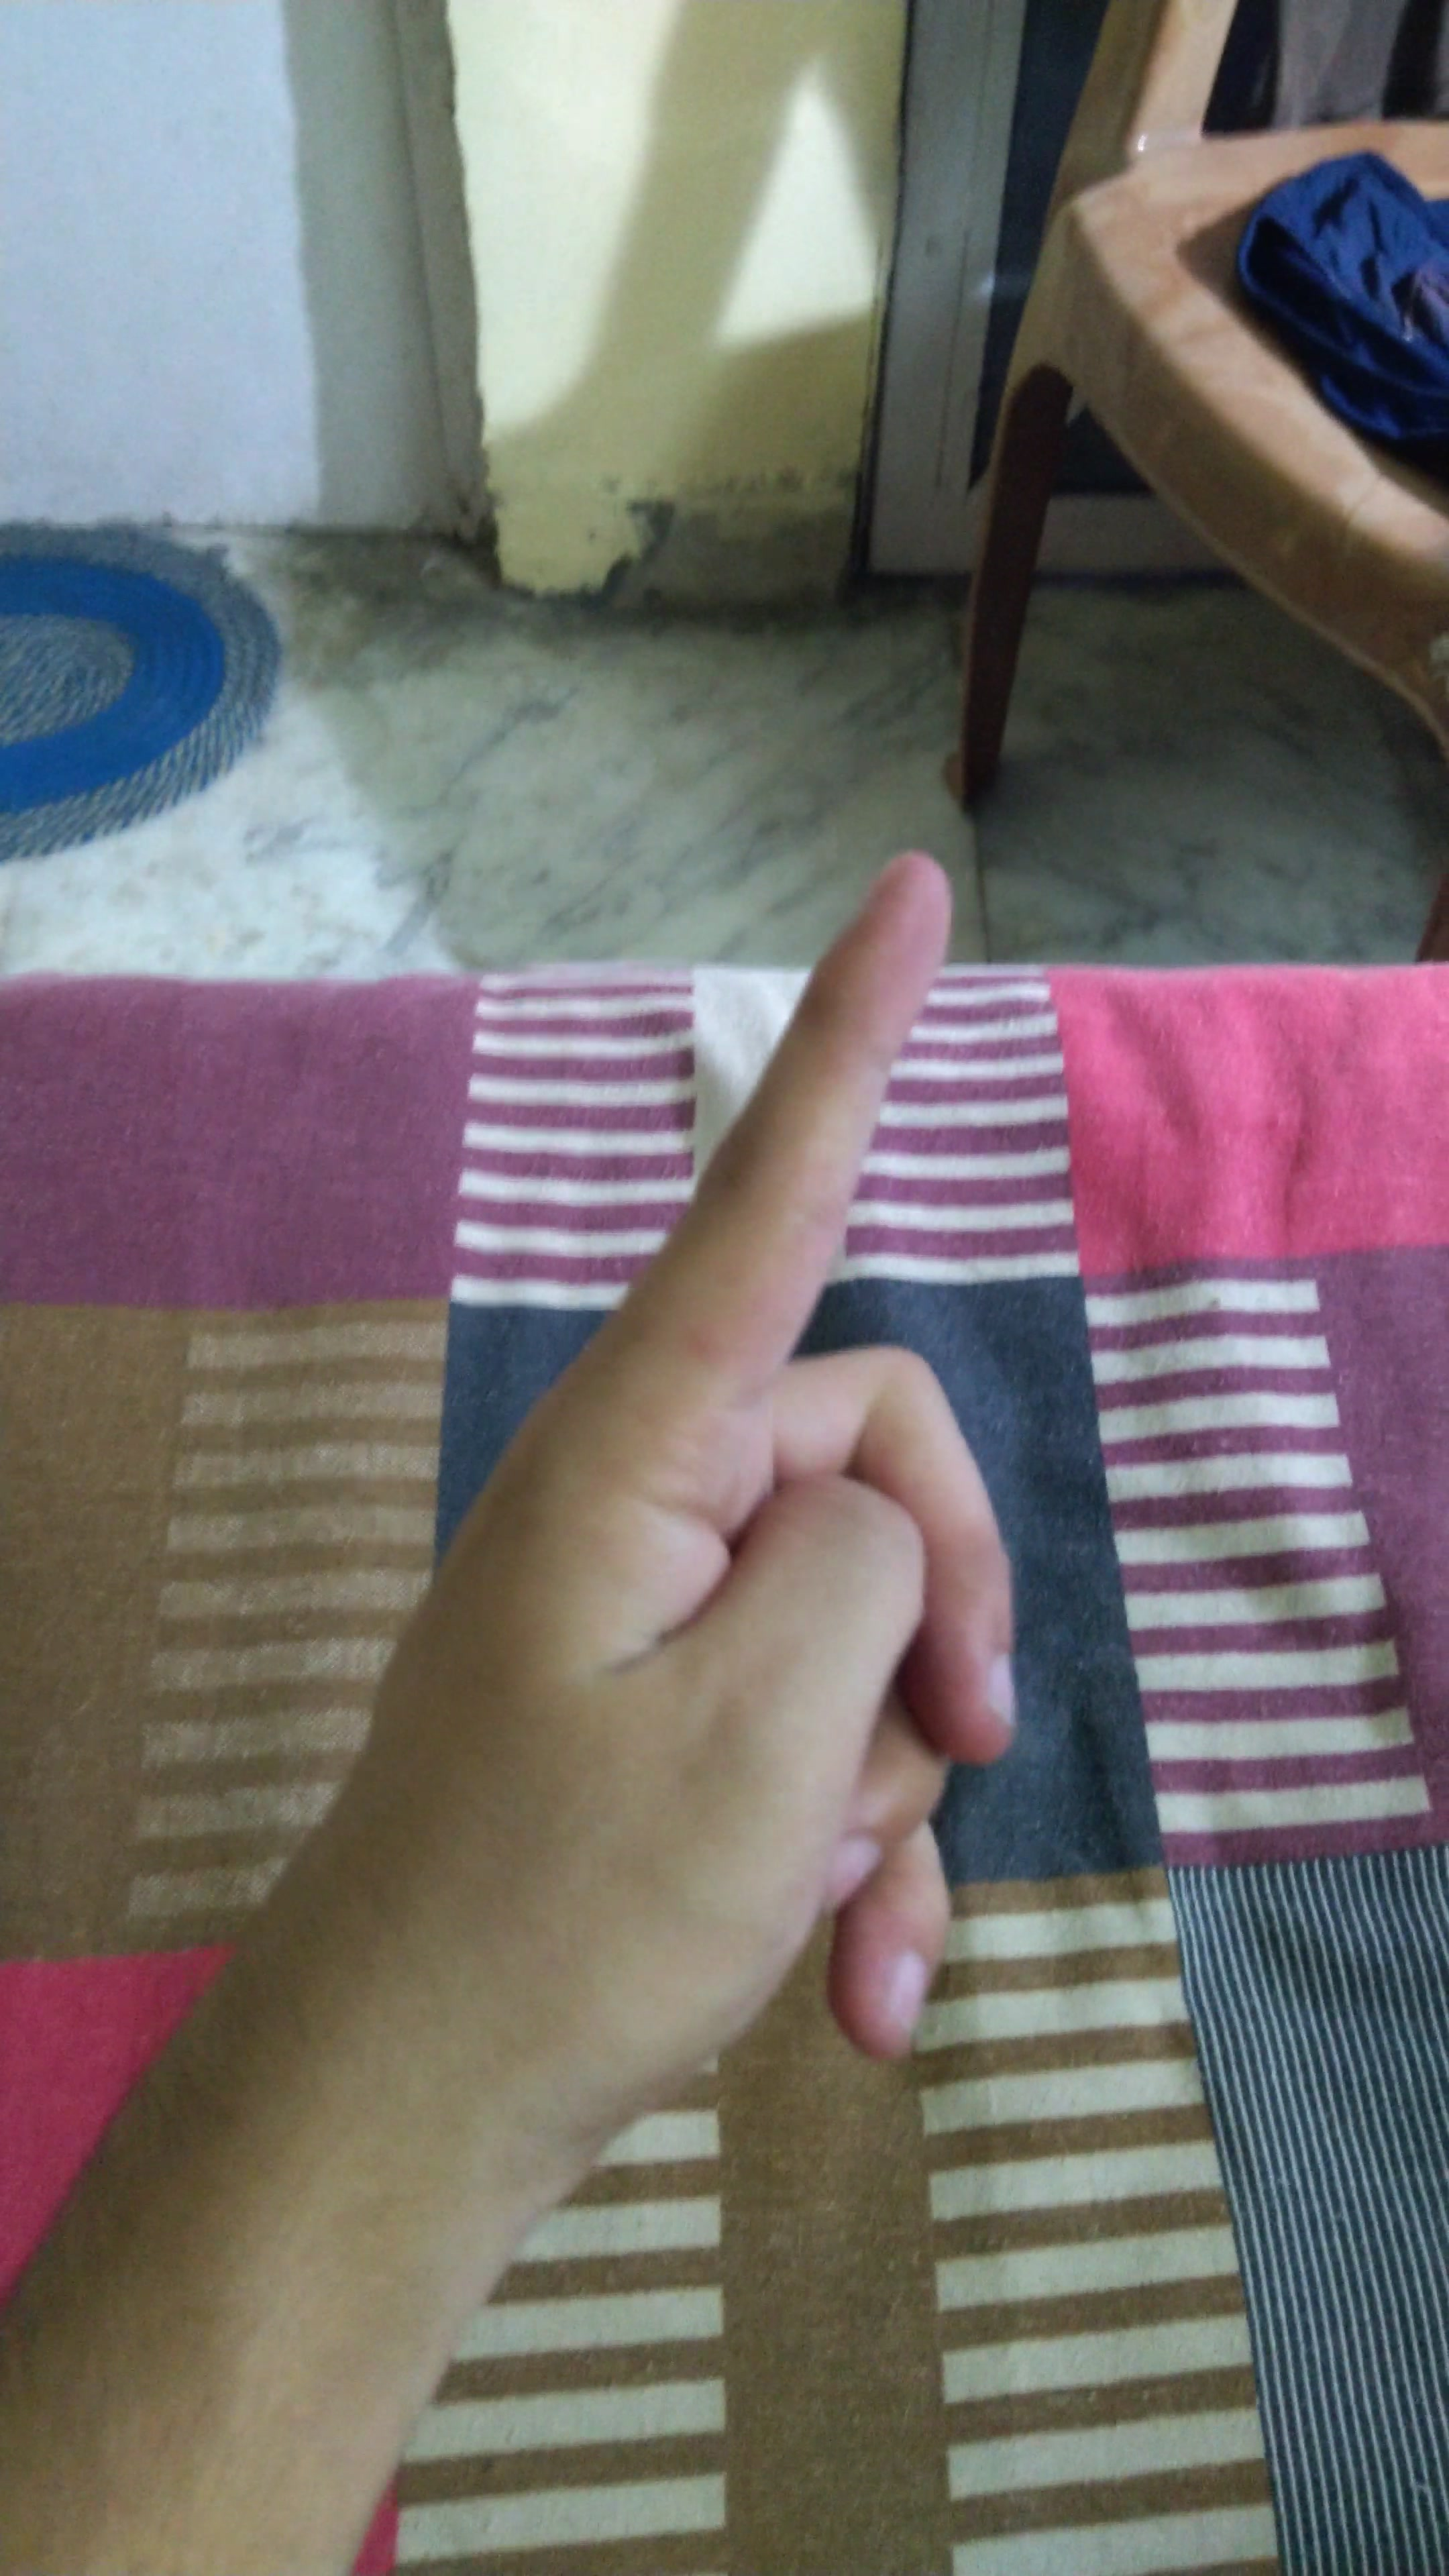hand: (253, 821, 1198, 2176)
